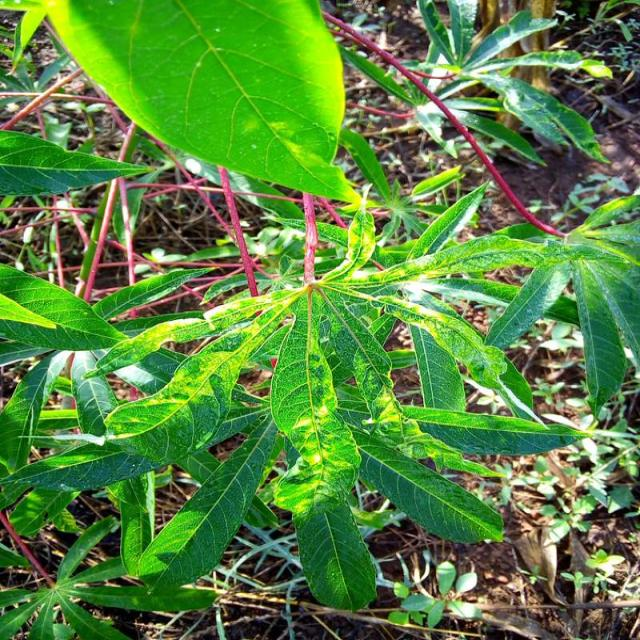cassava leaf: (1, 1, 636, 614), (38, 0, 357, 204)
